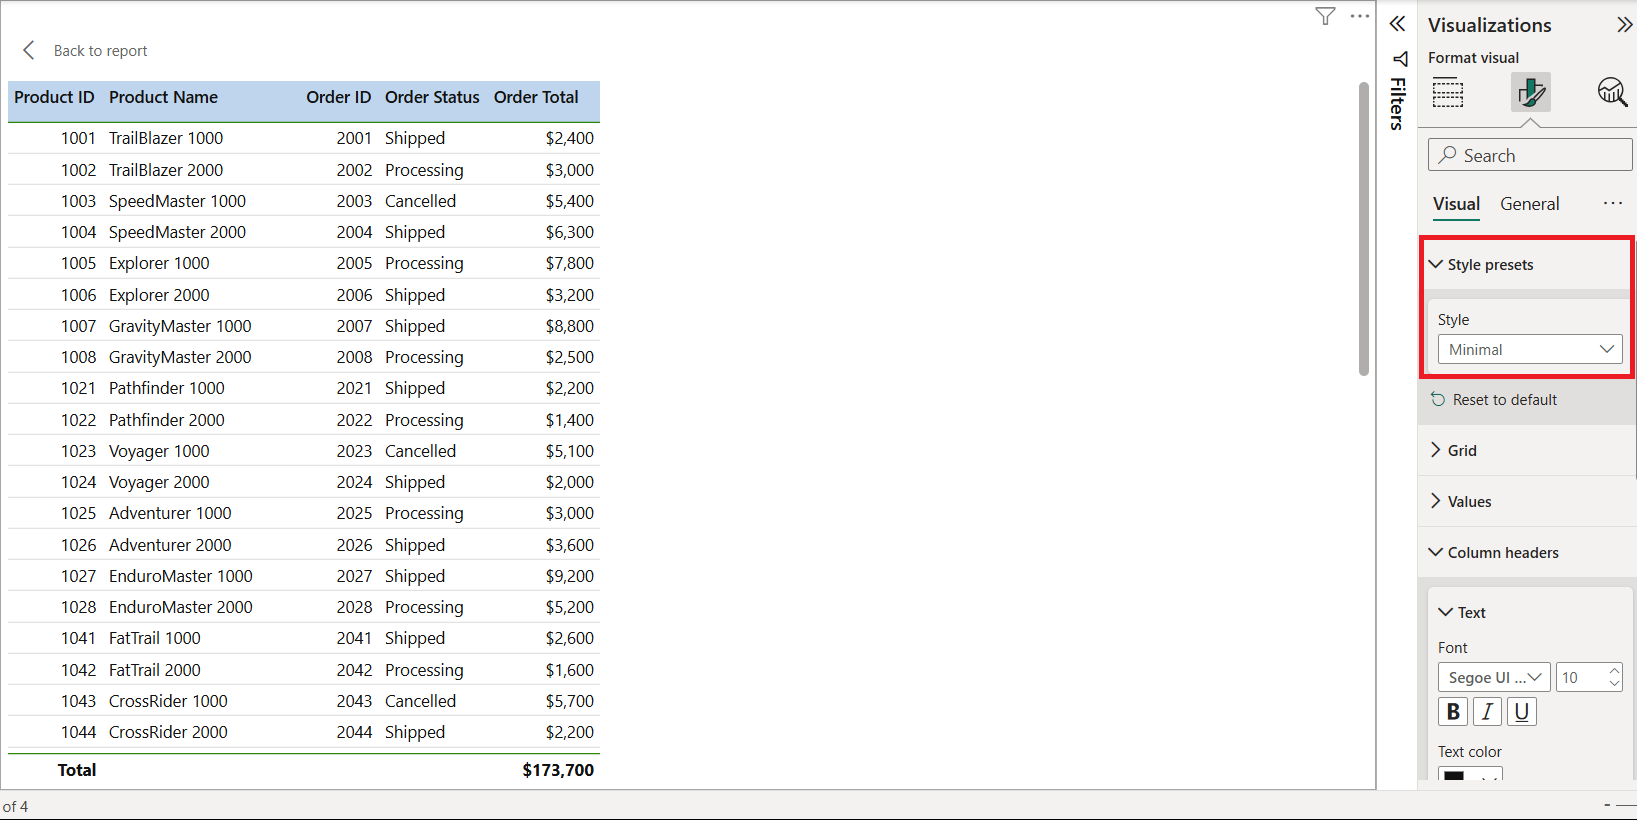

This screenshot's page, from the dashboard's own definition file:
{"tool":"powerbi","page":{"name":"Table Chart","canvas":[1280,720],"ordinal":1},"visuals":[{"type":"tableEx","fields":{"Values":["Sales.Product ID","Sales.Product Name","Sales.Order ID","Sales.Order Status","Sum(Sales.Order Total)"]},"box":[0,47.7,673.8,672.6],"z":0}]}

Visuals, with their boxes on the page's 1280x720 design canvas (x1, y1, x2, y2). These are canvas units, not pixel positions in the 1637x820 screenshot, which may show the page scaled, cropped or inside an application window:
tableEx - Sales.Product ID x Sales.Product Name: box(0, 48, 674, 720)
